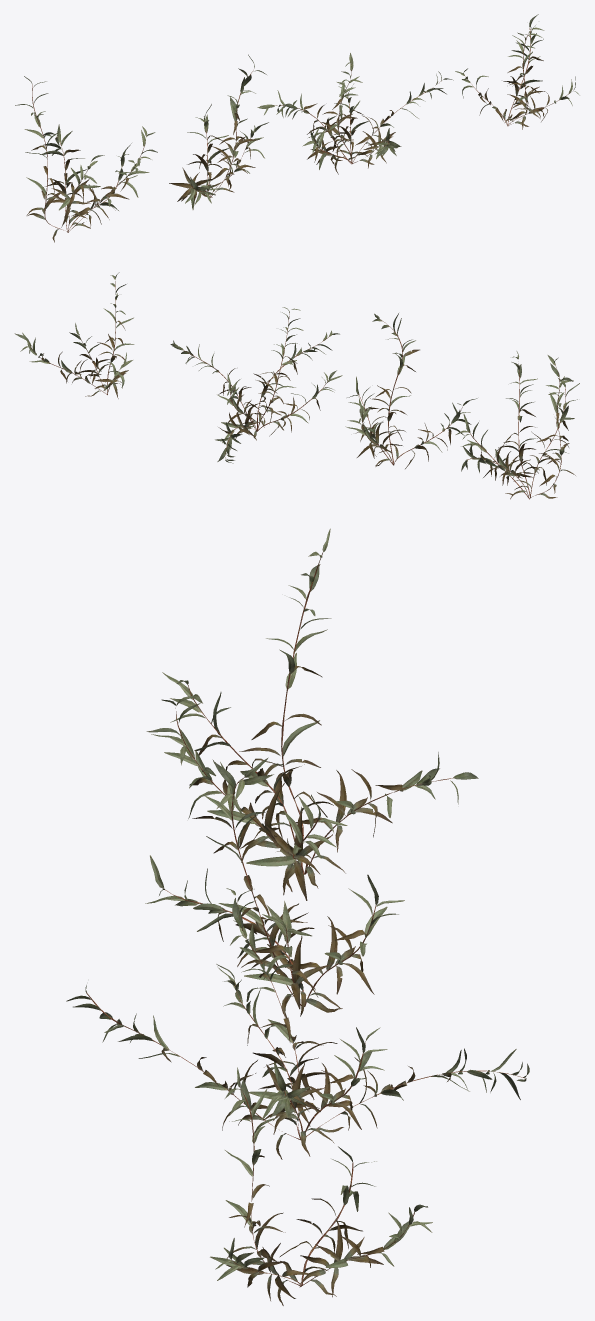
The model's file is shrub_02_lod1.glb.
3 views of the same model, one above another, from view 1: azimuth 30°, elevation 25°; view 2: azimuth 150°, elevation 25°; view 3: azimuth 270°, elevation 25° (orthographic). The views are drawn at different scales.
Parts seen in each view (by area): view 1: shrub_02_a; view 2: shrub_02_a; view 3: shrub_02_a.
Boxes of the visible parts, x1,y1,x2,y2 form: shrub_02_a: [15, 14, 579, 242]; shrub_02_a: [14, 272, 579, 499]; shrub_02_a: [66, 528, 529, 1305].
Bounding box in the file's own units: 6.05 × 1.7 × 2.29.
Materials: 1 (1 with a texture image).
